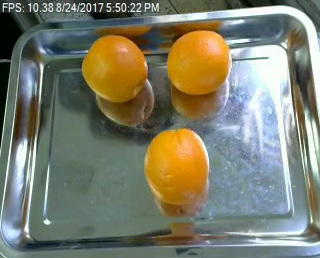Orange: (143, 126, 211, 207), (80, 34, 147, 102), (166, 29, 232, 95)
